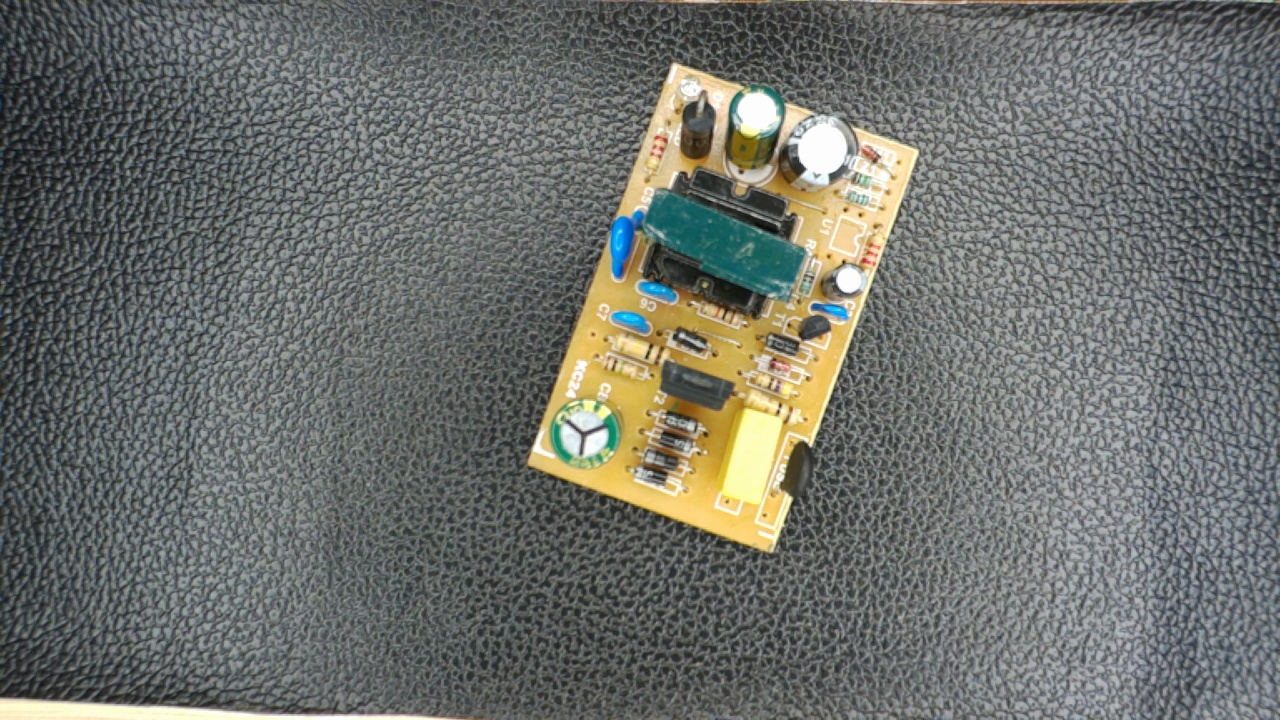fuse: (773, 431, 821, 507)
hv_capacitor: (548, 393, 623, 473)
mov: (603, 204, 648, 285)
